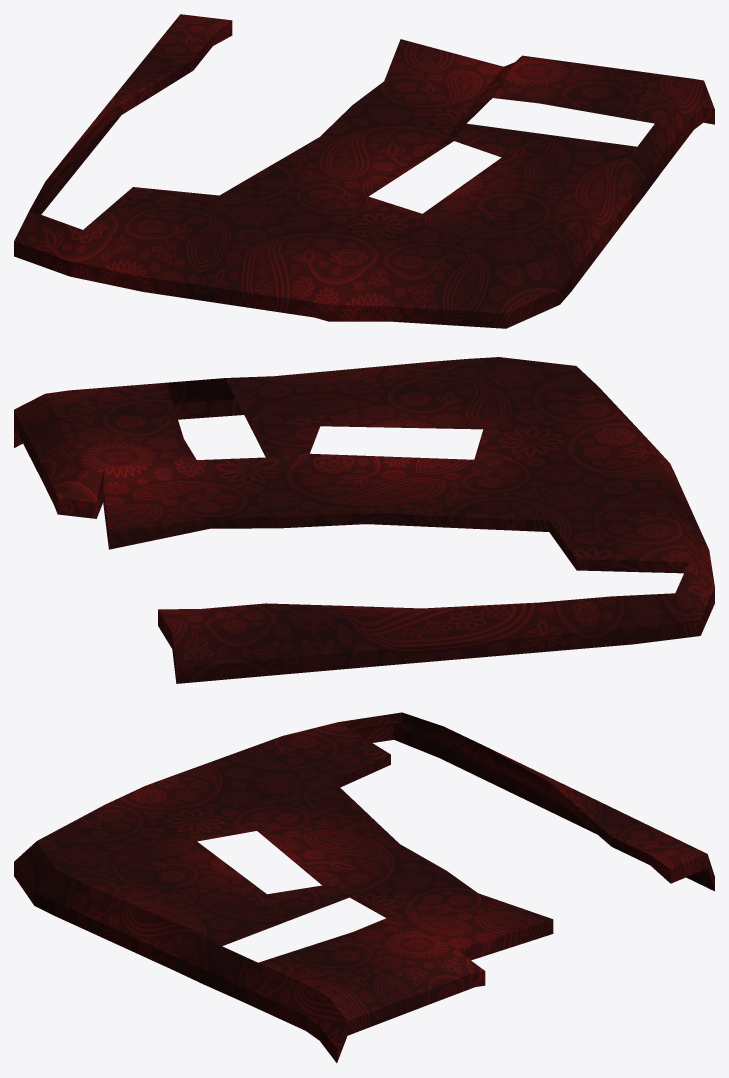
The model's file is PROP_brumble_carpet_route1.FBX.
The picture shows the model from 3 angles, top to bottom: view 1: azimuth 30°, elevation 25°; view 2: azimuth 150°, elevation 25°; view 3: azimuth 270°, elevation 25°; orthographic projection. The views are drawn at different scales.
Parts seen in each view (by area): view 1: rovi_tappeto; view 2: rovi_tappeto; view 3: rovi_tappeto.
Part boxes in pixels (box(x1,y1,x2,y2)): rovi_tappeto: box(14, 14, 714, 328); rovi_tappeto: box(14, 357, 714, 683); rovi_tappeto: box(14, 712, 714, 1062).
Bounding box in the file's own units: 36.26 × 2.93 × 34.21.
